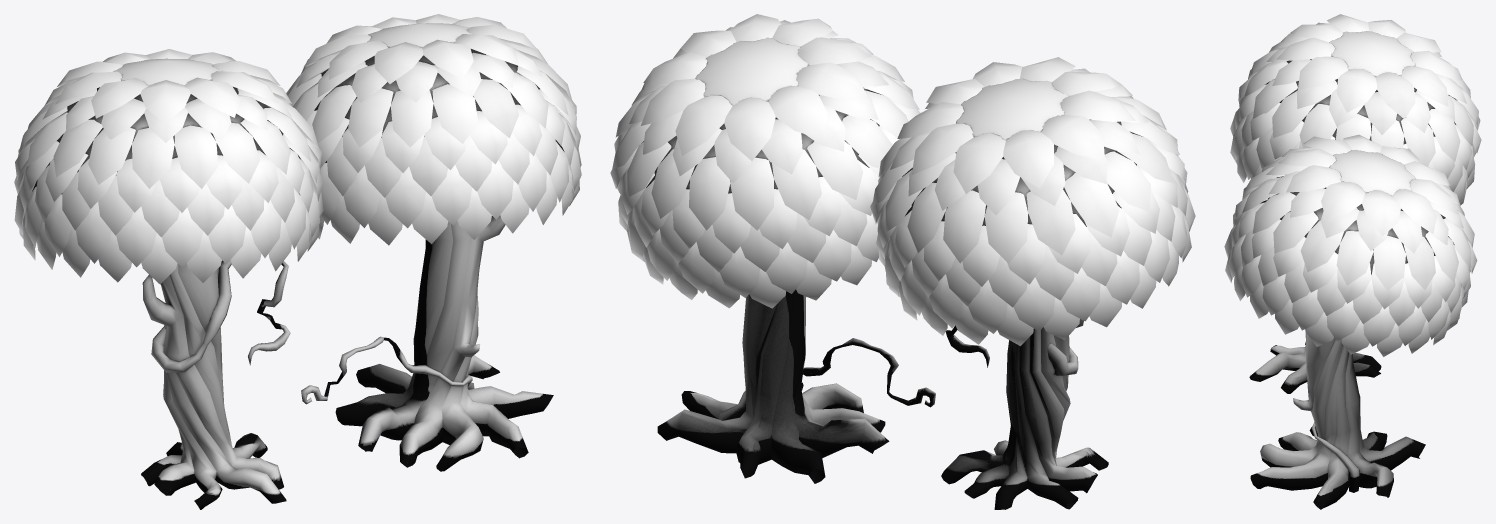
Rendered from Arbres.FBX.
3 renders of one model, left to right at view 1: azimuth 30°, elevation 25°; view 2: azimuth 150°, elevation 25°; view 3: azimuth 270°, elevation 25°, orthographic. The views are drawn at different scales.
Parts seen in each view (by area): view 1: Arbres; view 2: Arbres; view 3: Arbres.
Boxes of the visible parts, <box> form: Arbres: <box>14,14,581,509</box>; Arbres: <box>610,14,1195,509</box>; Arbres: <box>1224,14,1481,509</box>.
Size of the model in its own units: 17.86 by 13.78 by 9.42.
